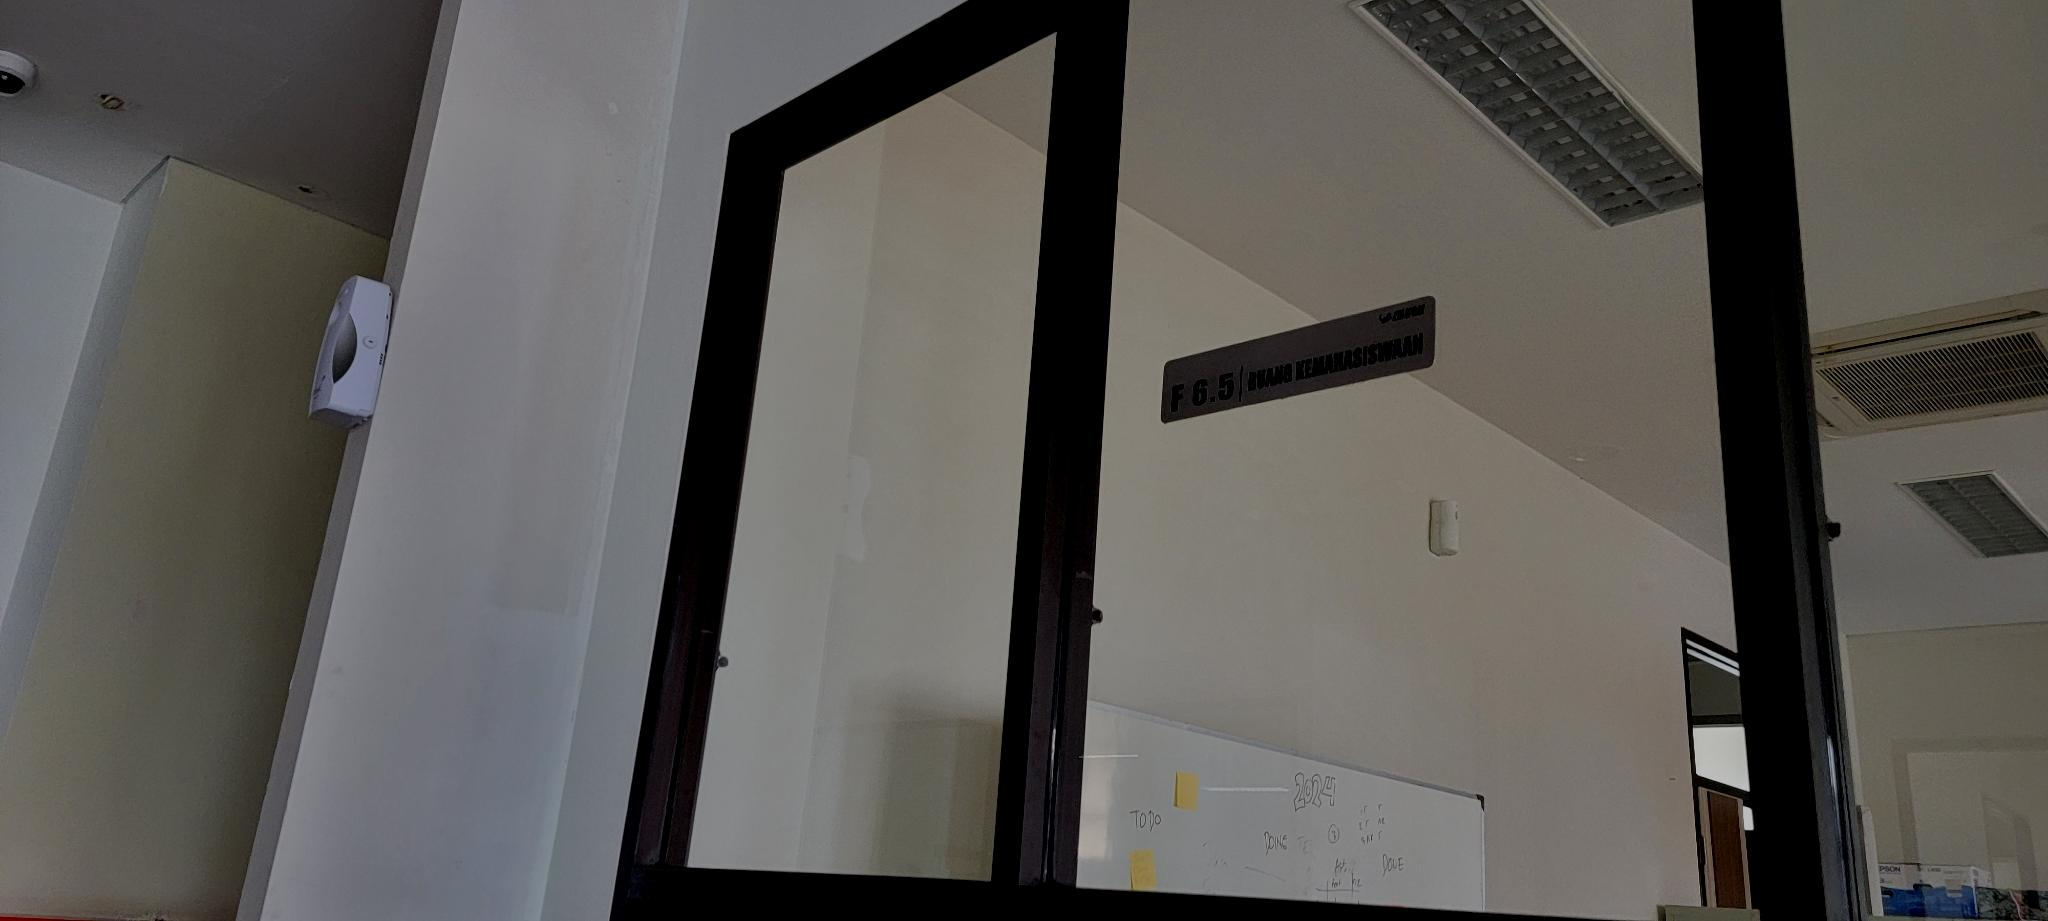plate: (1161, 294, 1437, 425)
